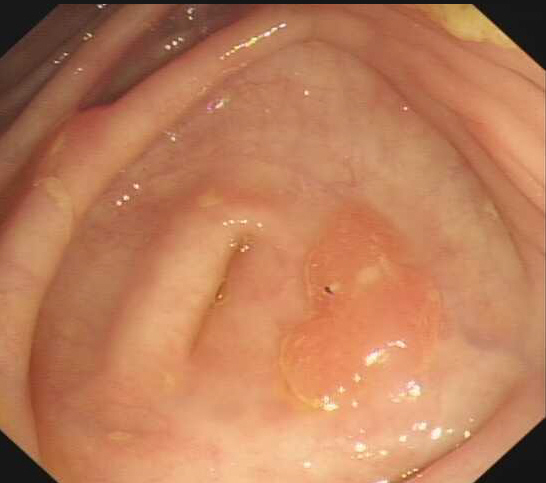adenoma: (281, 202, 444, 411)
